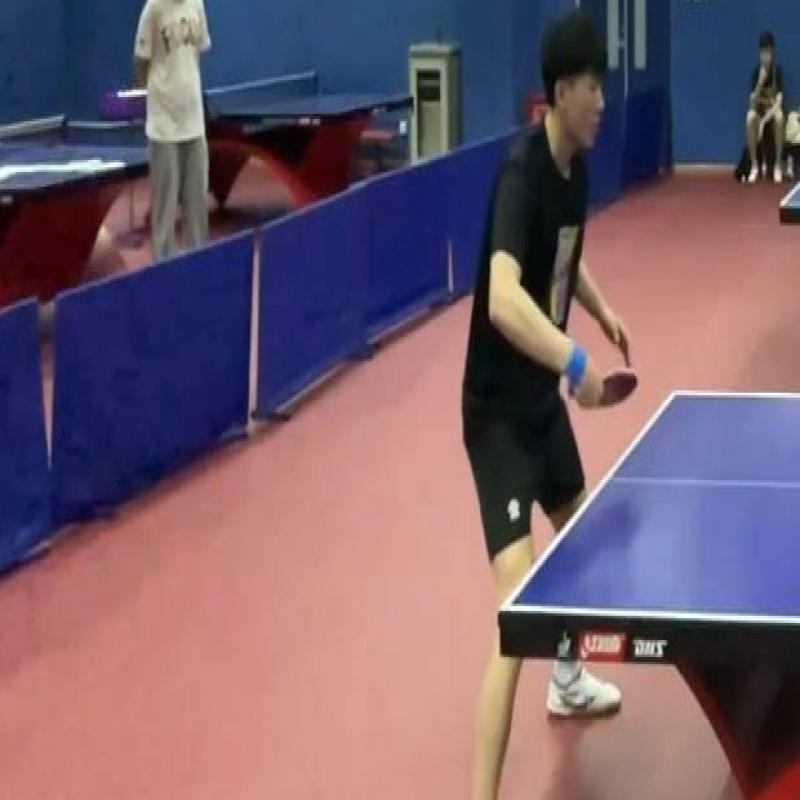bats: (561, 329, 650, 436)
